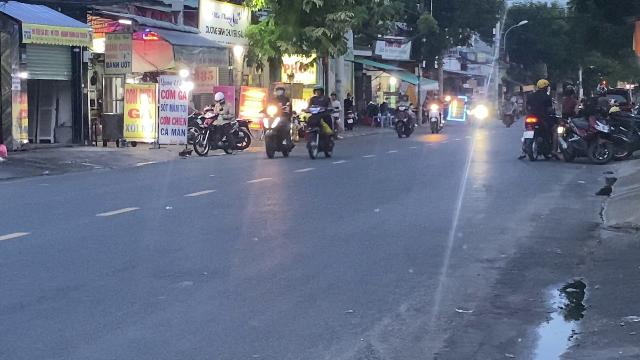helmet: (272, 82, 284, 96), (312, 84, 324, 96)
motorcyclist: (260, 81, 296, 158), (302, 84, 338, 160)
